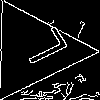L: (9, 25, 70, 71)
